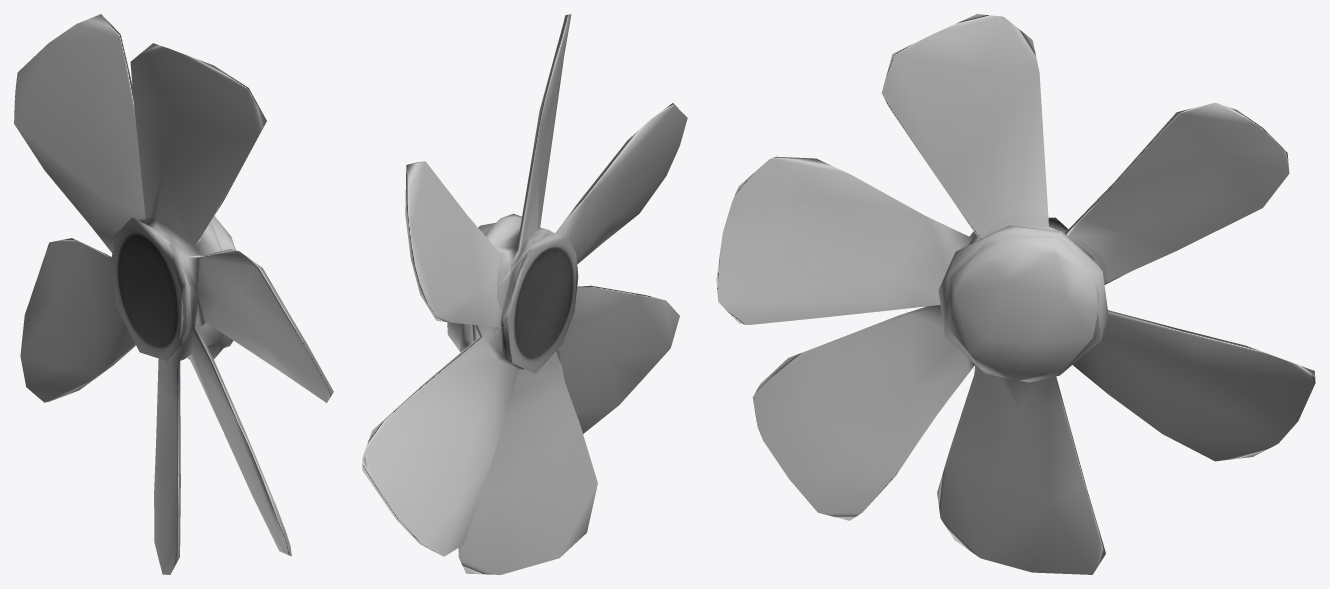
Rendered from TripoModel.glb.
3 renders of one model, left to right at view 1: azimuth 30°, elevation 25°; view 2: azimuth 150°, elevation 25°; view 3: azimuth 270°, elevation 25°, orthographic. The views are drawn at different scales.
Parts seen in each view (by area): view 1: tripo_node_cf9851f4-6a39-44b5-b90a-d3ab941fa8c8; view 2: tripo_node_cf9851f4-6a39-44b5-b90a-d3ab941fa8c8; view 3: tripo_node_cf9851f4-6a39-44b5-b90a-d3ab941fa8c8.
Part boxes in pixels (x1,y1,x2,y2): tripo_node_cf9851f4-6a39-44b5-b90a-d3ab941fa8c8: (14,14,333,574); tripo_node_cf9851f4-6a39-44b5-b90a-d3ab941fa8c8: (362,14,687,574); tripo_node_cf9851f4-6a39-44b5-b90a-d3ab941fa8c8: (716,14,1315,574).
Bounding box in the file's own units: 0.1725 × 1 × 0.9934.
Materials: 1 (1 with a texture image).
